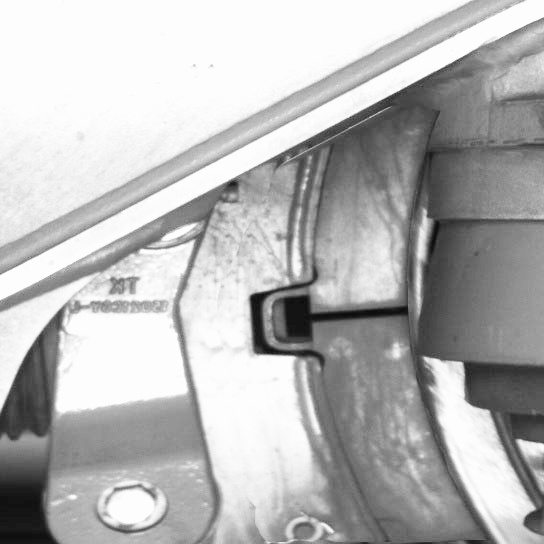ClosedKnifeSwitch: (287, 147, 503, 541)
